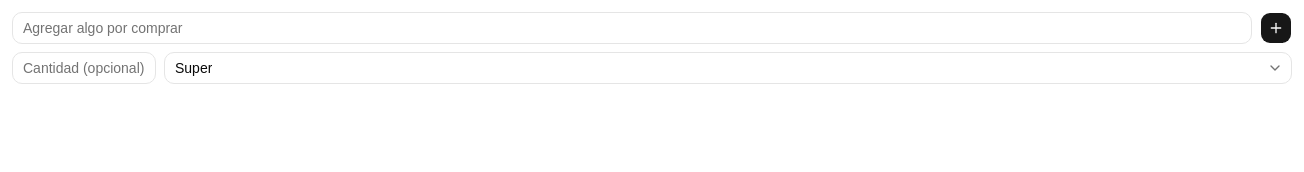
Test: a pending duplicate is not added and is pointed out
The width and height of the screenshot is (1304, 172).
In the field labelled "Agregar": (632, 28) [12,12,1252,44], type "LECHE "
Then press Enter
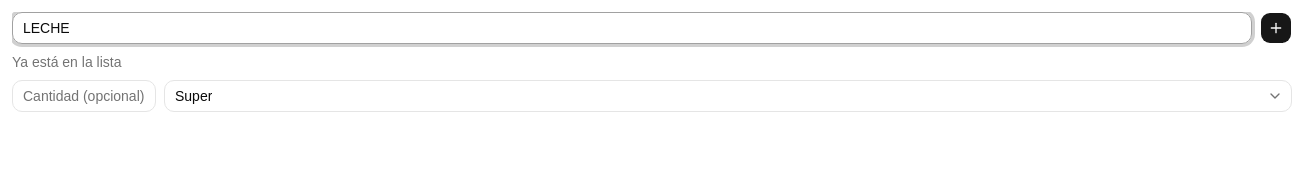
Check: the text "Ya está en la lista" is shown, box [12,54,122,70]
